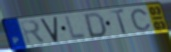C: (130, 8, 153, 32)
D: (83, 11, 108, 39)
L: (64, 14, 89, 41)
R: (19, 19, 48, 46)
T: (109, 8, 129, 36)
V: (40, 15, 60, 43)
